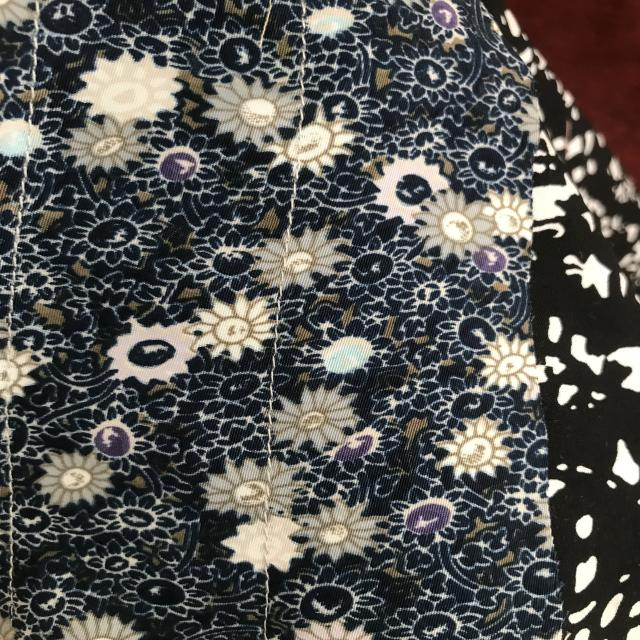good: (260, 340, 288, 447), (294, 50, 312, 116)
